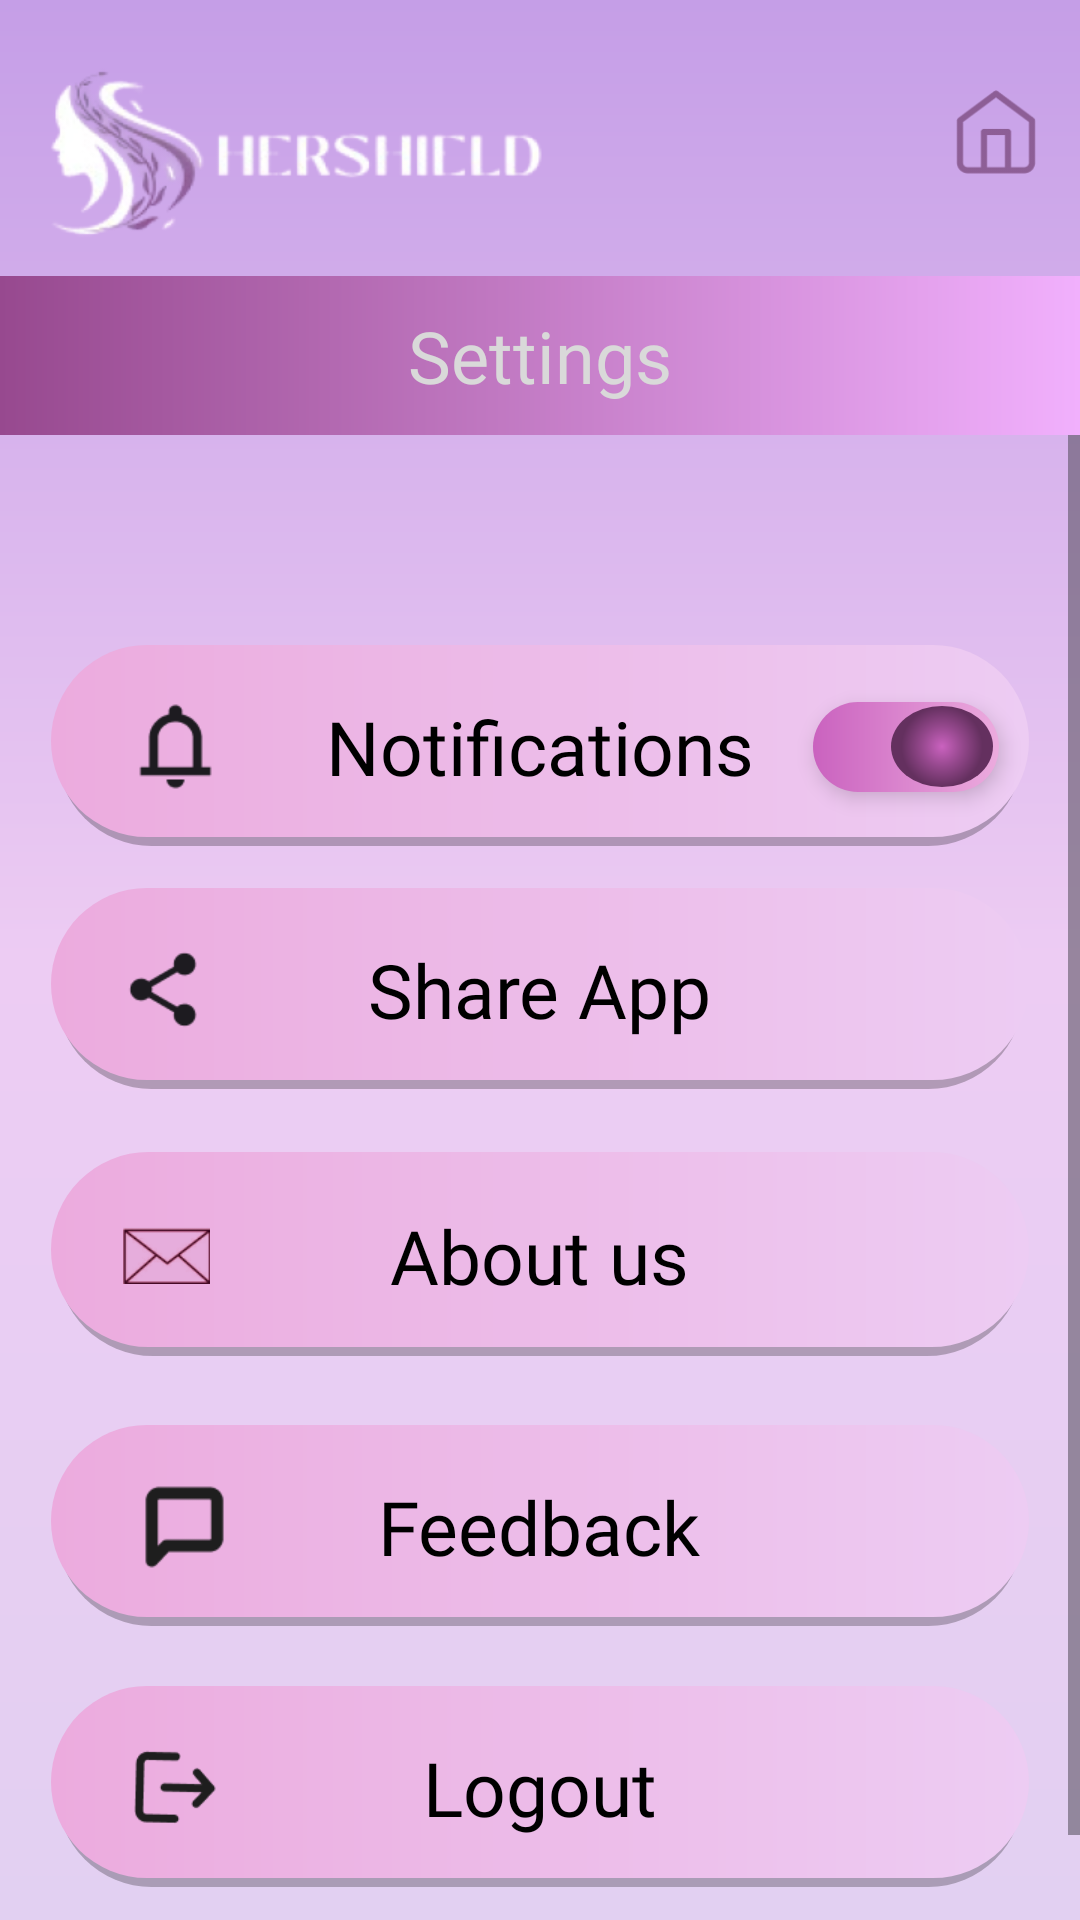

Point at icon controls on the screen. Image size 1080 × 1920, points as point (x, y).
home: point (996, 132)
share: point (163, 989)
